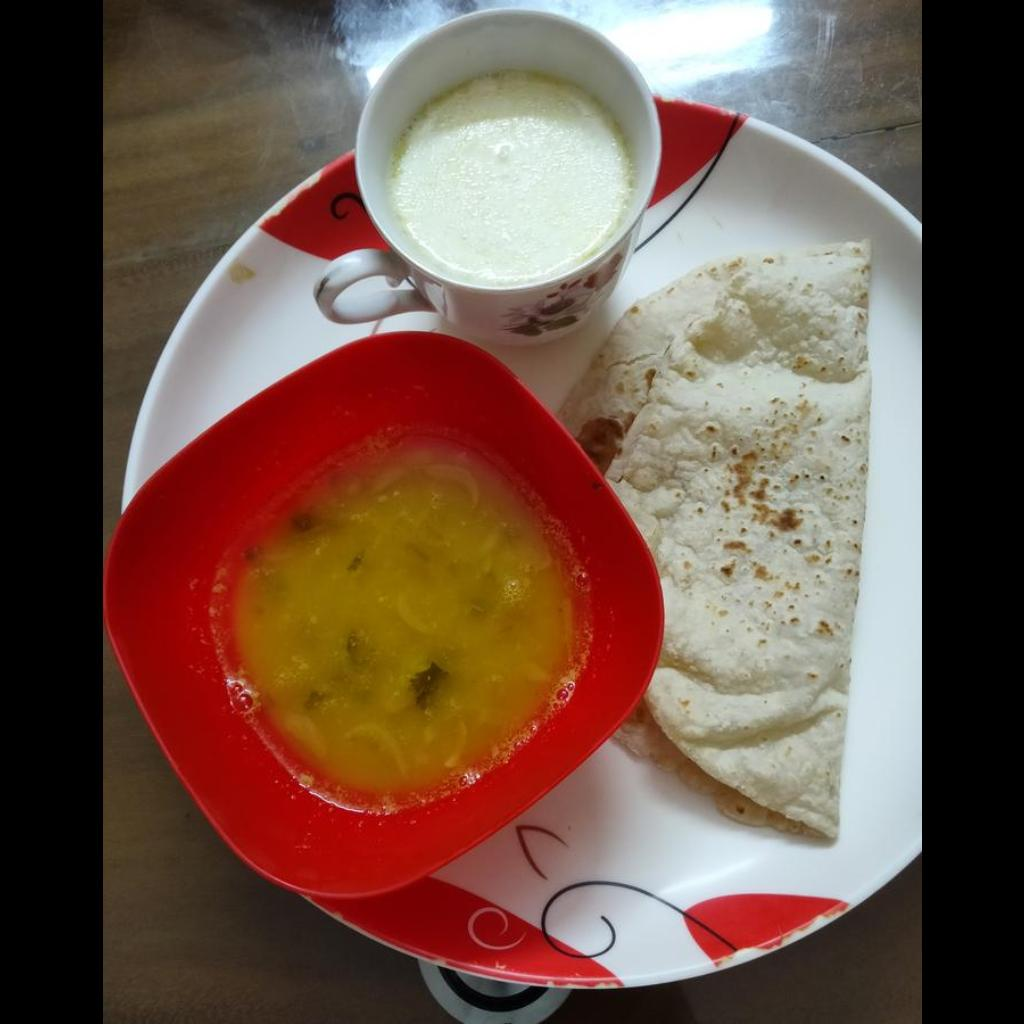daal: (221, 446, 564, 804)
milk: (387, 76, 627, 279)
ruti: (557, 239, 874, 843)
